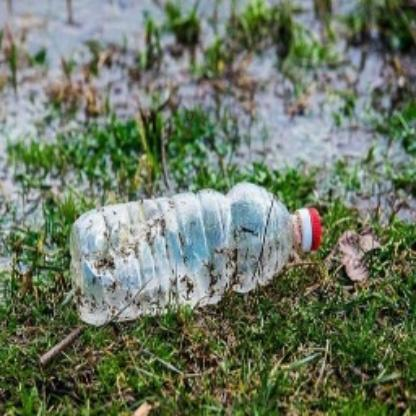plastic bottle: (65, 182, 323, 323)
